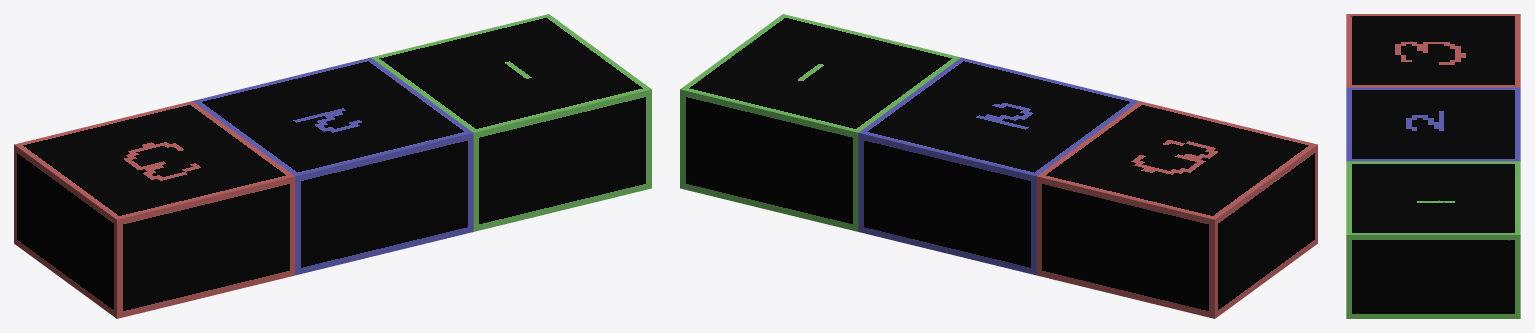
File: LIB_MovementGridSimplification.gltf
3 views of the same model, side by side, from view 1: azimuth 30°, elevation 25°; view 2: azimuth 150°, elevation 25°; view 3: azimuth 270°, elevation 25° (orthographic). The views are drawn at different scales.
Parts seen in each view (by area): view 1: 1.1_W3, 1.1_W2, 1.1_W1; view 2: 1.1_W3, 1.1_W2, 1.1_W1; view 3: 1.1_W1, 1.1_W2, 1.1_W3.
Part boxes in pixels (left/top/right/bottom): 1.1_W3: left=14, top=101, right=295, bottom=318; 1.1_W2: left=193, top=57, right=473, bottom=275; 1.1_W1: left=371, top=14, right=651, bottom=231; 1.1_W3: left=1036, top=101, right=1317, bottom=318; 1.1_W2: left=858, top=57, right=1138, bottom=275; 1.1_W1: left=680, top=14, right=960, bottom=231; 1.1_W1: left=1346, top=161, right=1520, bottom=318; 1.1_W2: left=1346, top=87, right=1520, bottom=161; 1.1_W3: left=1346, top=14, right=1520, bottom=87.
Bounding box in the file's own units: 6 × 1.06 × 2.
1 material, 1 textured.
